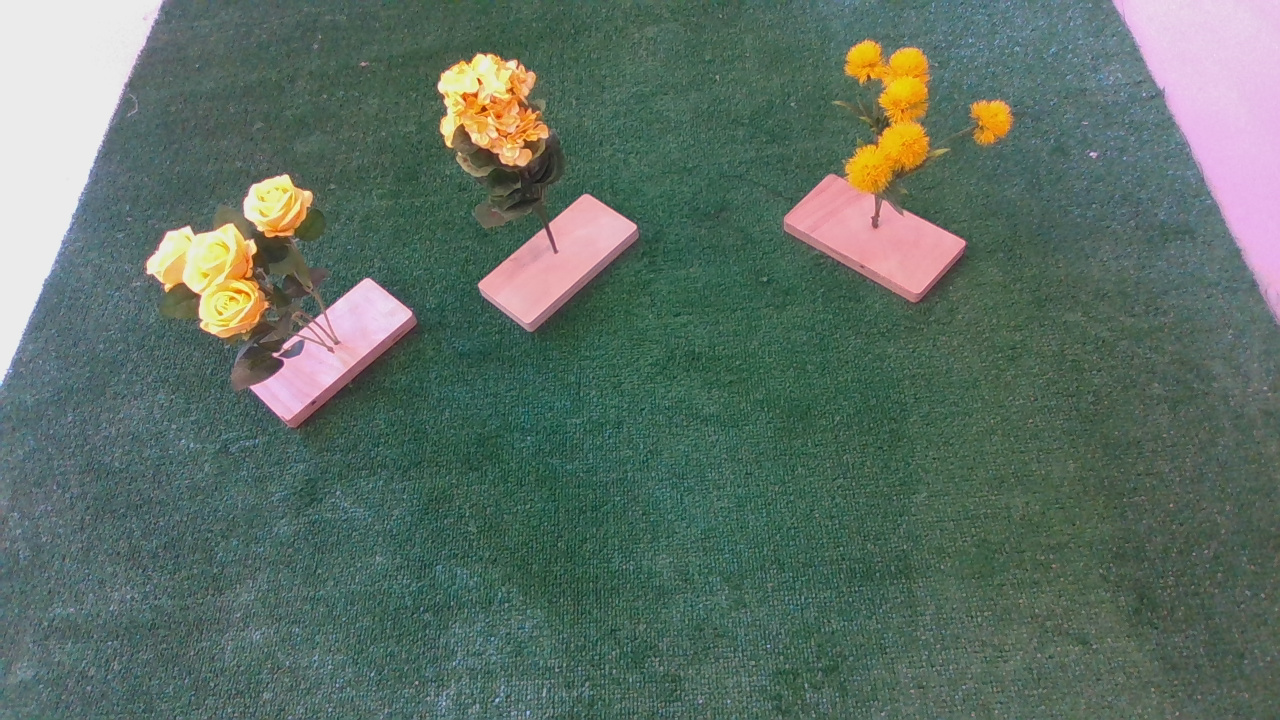dandelion: (810, 40, 1026, 222)
geranium: (433, 51, 578, 240)
rose: (149, 175, 339, 400)
